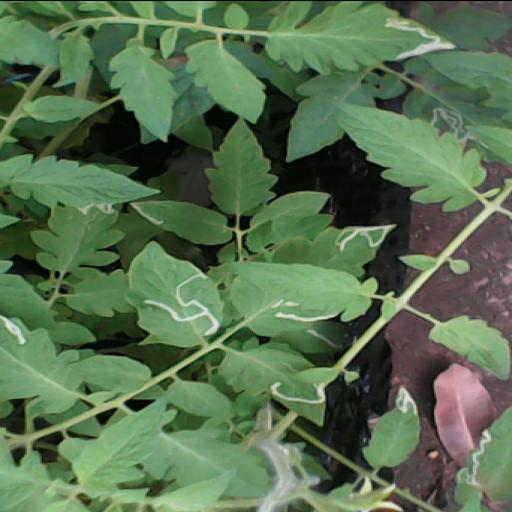Healthy: (331, 94, 491, 210), (8, 154, 162, 208), (182, 38, 272, 124), (202, 116, 280, 214), (104, 46, 178, 140), (426, 310, 512, 378)
Leaf Miner: (264, 0, 460, 74), (123, 238, 225, 346), (275, 214, 402, 274)
